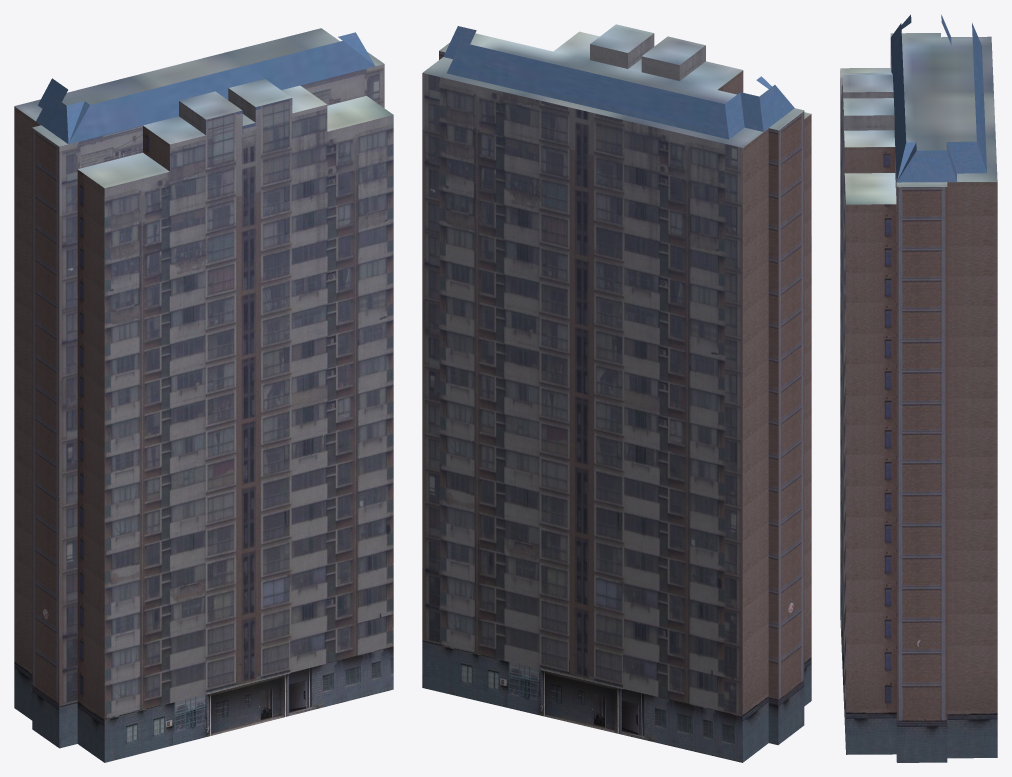
The model's file is jsgy_a5.gltf.
3 views of the same model, side by side, from view 1: azimuth 30°, elevation 25°; view 2: azimuth 150°, elevation 25°; view 3: azimuth 270°, elevation 25° (orthographic). The views are drawn at different scales.
Parts seen in each view (by area): view 1: Mesh01#15; view 2: Mesh01#15; view 3: Mesh01#15.
Part boxes in pixels (box(x1,y1,x2,y2)): Mesh01#15: box(14, 28, 393, 762); Mesh01#15: box(422, 24, 811, 762); Mesh01#15: box(840, 14, 997, 762).
Bounding box in the file's own units: 0.0361 × 0.066 × 0.0156.
3 materials, 3 textured.
